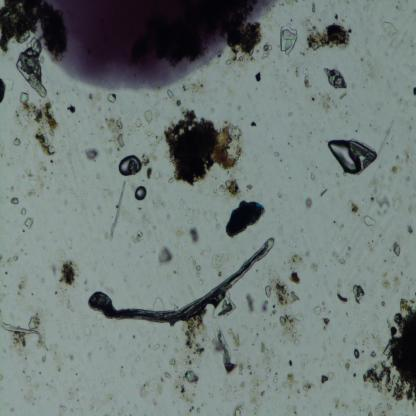Air bubble: (329, 137, 360, 175), (117, 153, 141, 175), (134, 184, 148, 202)
Background material: (359, 284, 416, 404), (164, 108, 244, 185), (232, 340, 300, 416), (16, 92, 60, 158), (266, 268, 303, 344), (178, 311, 206, 400), (0, 0, 42, 48), (16, 35, 46, 98), (228, 23, 272, 64), (19, 168, 60, 210), (306, 19, 354, 53), (371, 166, 401, 220), (140, 357, 176, 400), (104, 182, 126, 240), (212, 325, 235, 374), (171, 203, 198, 242), (18, 366, 44, 404), (54, 248, 79, 287), (375, 112, 396, 156), (307, 88, 344, 112), (350, 140, 376, 173), (320, 65, 350, 93), (378, 266, 408, 293), (104, 117, 126, 153), (278, 22, 298, 56), (68, 185, 90, 212), (310, 304, 331, 332), (215, 179, 241, 200), (179, 79, 206, 99), (188, 254, 204, 287), (136, 212, 158, 236), (214, 295, 236, 318), (142, 155, 160, 182), (216, 382, 236, 406), (145, 130, 165, 154), (280, 253, 305, 269), (56, 291, 76, 311), (18, 271, 31, 301), (60, 383, 79, 402), (326, 393, 350, 408), (351, 282, 366, 306), (338, 353, 354, 375), (53, 344, 65, 372), (93, 399, 117, 413), (369, 403, 394, 416), (211, 253, 225, 276), (0, 254, 22, 268), (380, 19, 398, 36), (150, 192, 165, 212), (158, 244, 173, 264), (331, 247, 351, 262), (183, 399, 200, 416), (393, 149, 410, 166), (362, 54, 374, 78), (331, 216, 348, 232), (318, 370, 335, 386), (301, 373, 313, 395), (243, 296, 255, 317), (364, 238, 378, 256), (290, 60, 303, 79), (86, 146, 99, 164), (362, 215, 378, 229), (349, 197, 361, 215), (335, 291, 349, 306), (22, 214, 34, 231), (45, 378, 56, 396), (131, 229, 145, 243), (303, 66, 311, 90), (407, 81, 416, 102), (0, 76, 6, 106), (82, 321, 92, 338), (152, 297, 165, 310), (60, 402, 74, 414), (190, 228, 200, 244), (330, 8, 341, 22), (144, 108, 153, 125), (304, 195, 314, 210), (3, 156, 18, 166), (392, 241, 402, 256), (392, 2, 404, 14), (262, 298, 270, 316), (4, 78, 14, 92), (107, 92, 117, 106), (30, 283, 39, 298), (98, 377, 110, 388), (277, 187, 287, 200), (297, 225, 307, 238), (66, 104, 77, 115), (284, 106, 294, 118), (69, 350, 77, 365), (134, 116, 143, 129), (255, 70, 262, 86), (405, 225, 415, 236), (401, 173, 413, 182), (154, 342, 163, 354), (310, 263, 319, 275), (271, 146, 281, 156), (310, 4, 318, 16), (320, 188, 327, 201), (130, 331, 140, 340), (36, 273, 46, 282), (10, 196, 19, 206), (352, 349, 360, 360), (6, 404, 15, 413), (118, 366, 124, 378), (40, 355, 48, 364), (249, 119, 258, 127), (20, 206, 27, 216), (134, 352, 140, 363), (309, 172, 315, 182), (247, 184, 254, 192), (14, 137, 19, 146), (168, 92, 174, 99), (68, 240, 73, 248), (132, 369, 136, 374)
Cellulose filter fibre: (88, 237, 275, 324), (1, 317, 46, 347)
Fragment: (225, 201, 265, 238)
Pen: (34, 0, 278, 94)
